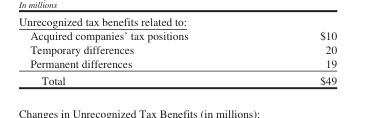table: (29, 28, 336, 86)
table column: (29, 28, 253, 86), (253, 28, 336, 86)
table row: (29, 55, 336, 71), (29, 71, 336, 86), (29, 41, 336, 55), (29, 28, 336, 41)
